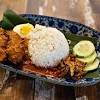rendang: (1, 13, 100, 85)
